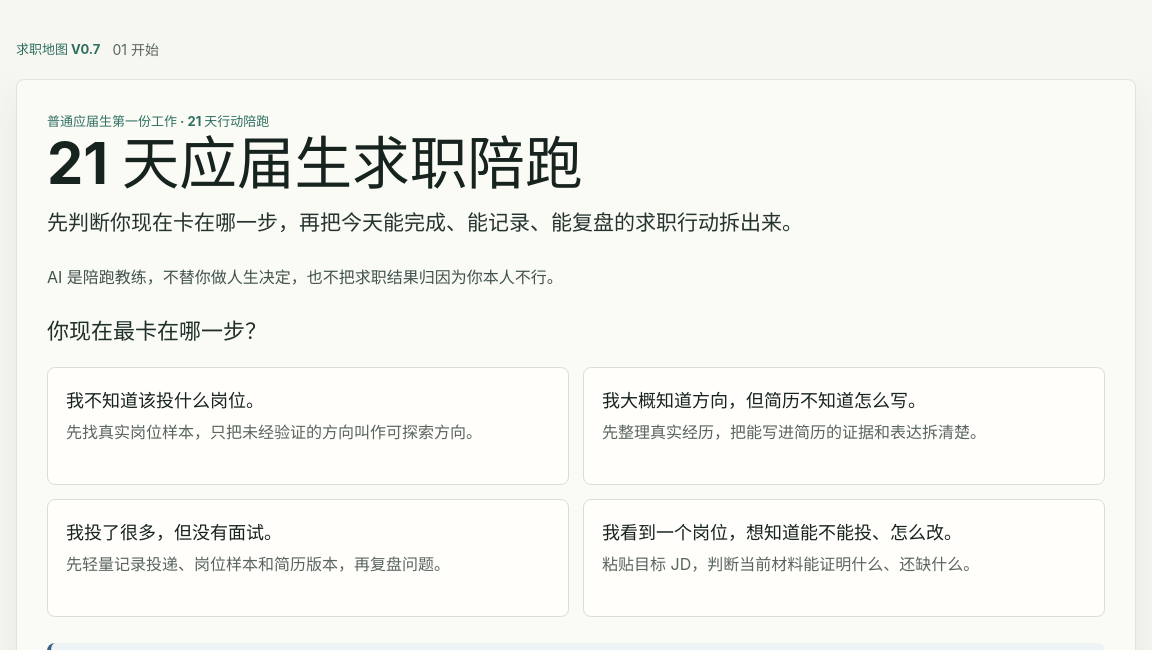
Scenario: V0.7 首页选择简历准备路线后复用旧无 JD 经历盘点能力
Click the button "我大概知道方向，但简历不知道怎么写。". click: (844, 426)
box: [583,367,1105,485]
(page scrolled)
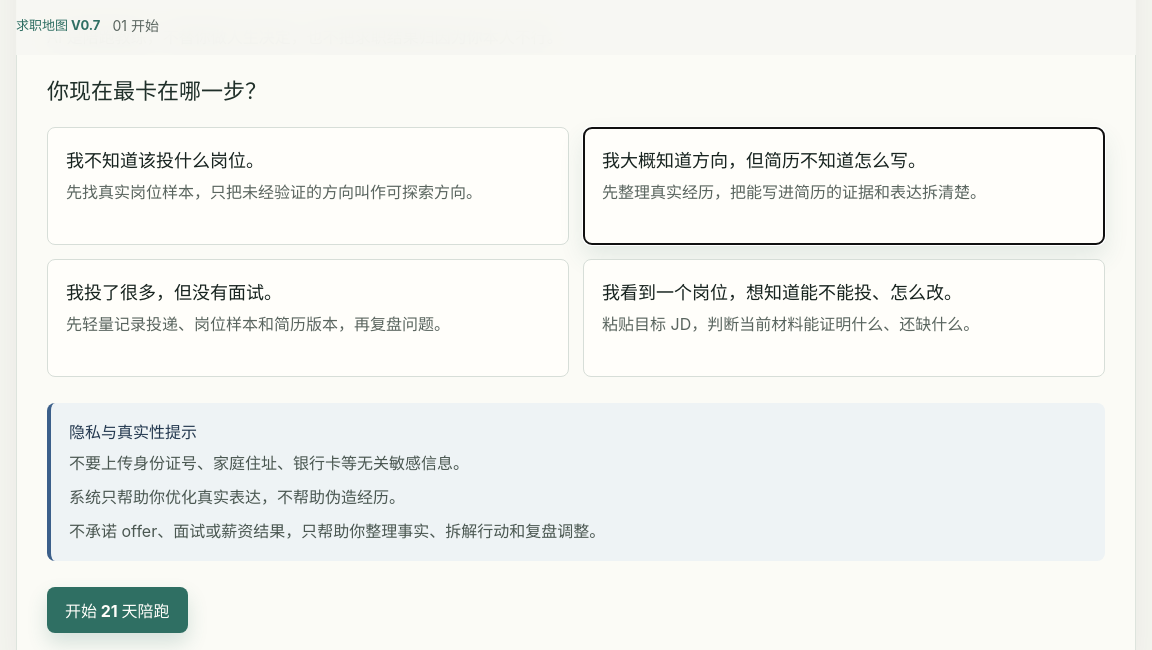
Click the button "开始 21 天陪跑". click: (117, 610)
box: [47,587,188,633]
(page scrolled)
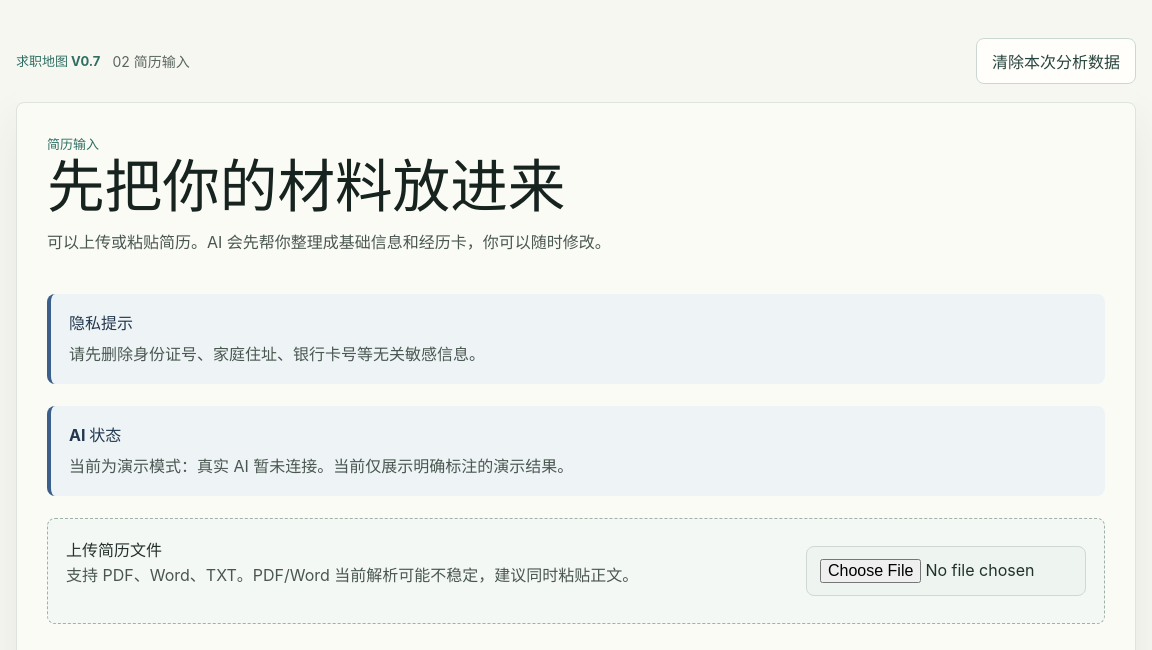
Expected: the heading "先把你的材料放进来" is shown, [47,151,565,221]
